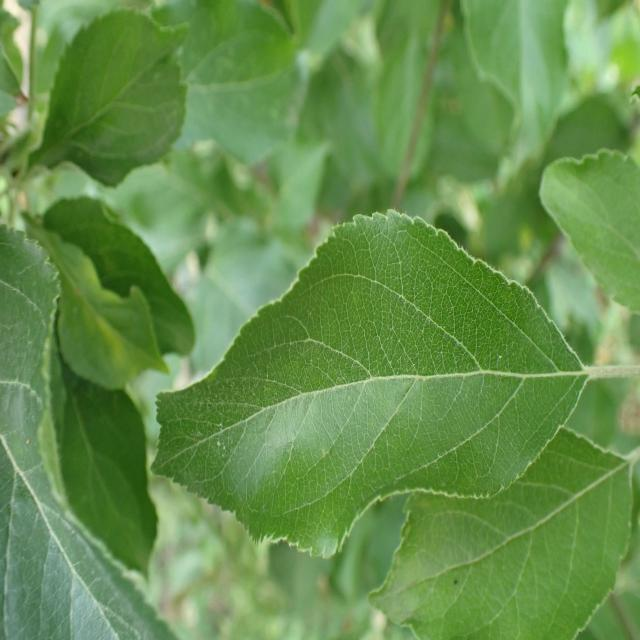healthy: (149, 206, 586, 560), (0, 224, 179, 640), (368, 426, 638, 640), (27, 5, 192, 188), (38, 195, 196, 383), (538, 148, 640, 314)
